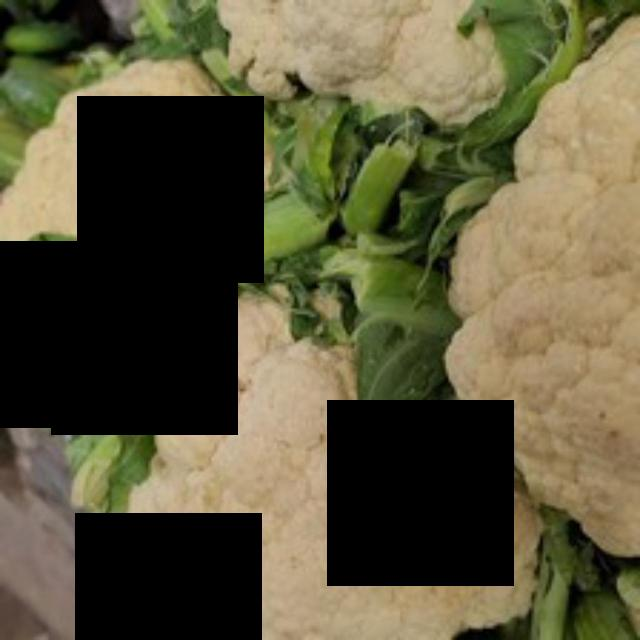cauliflower: (103, 263, 571, 637)
